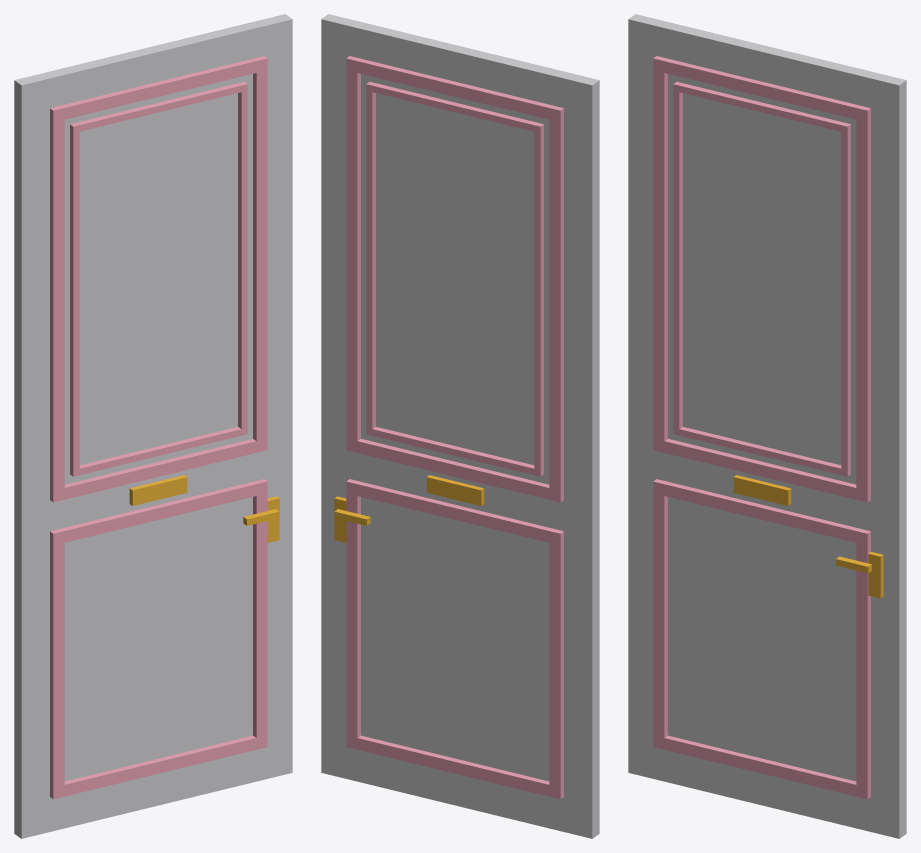
Rendered from SM_Door_girls_110x290.fbx.
The picture shows the model from 3 angles, left to right: view 1: azimuth 30°, elevation 25°; view 2: azimuth 150°, elevation 25°; view 3: azimuth 330°, elevation 25°; orthographic projection.
Parts seen in each view (by area): view 1: SM_Door_girls_110x290; view 2: SM_Door_girls_110x290; view 3: SM_Door_girls_110x290.
Boxes of the visible parts, x1=… form: SM_Door_girls_110x290: x1=14, y1=14, x2=292, y2=838; SM_Door_girls_110x290: x1=321, y1=14, x2=599, y2=838; SM_Door_girls_110x290: x1=628, y1=14, x2=906, y2=838.
Size of the model in its own units: 1.09 by 2.89 by 0.175.
